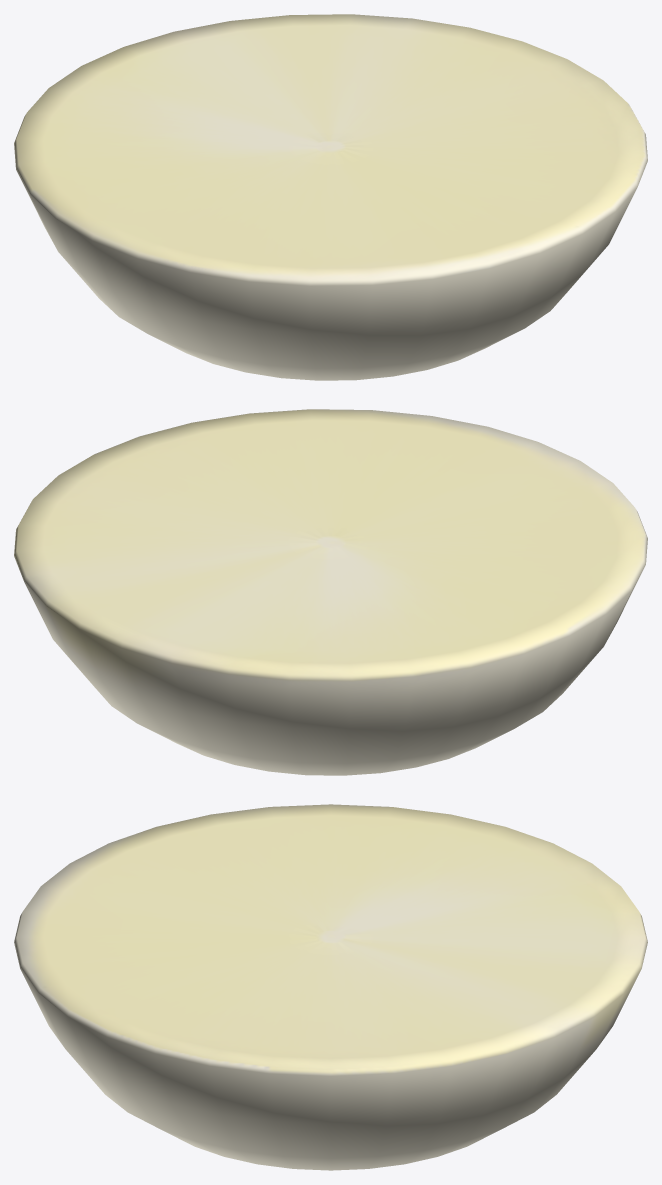
The model's file is Cream Mix.fbx.
3 renders of one model, top to bottom at view 1: azimuth 30°, elevation 25°; view 2: azimuth 150°, elevation 25°; view 3: azimuth 270°, elevation 25°, orthographic.
Visible parts, largest first — view 1: Milk; view 2: Milk; view 3: Milk.
Boxes of the visible parts, x1,y1,x2,y2 form: Milk: (14, 14, 647, 380); Milk: (14, 409, 647, 775); Milk: (14, 804, 647, 1170).
Size of the model in its own units: 248 by 248 by 78.8.
